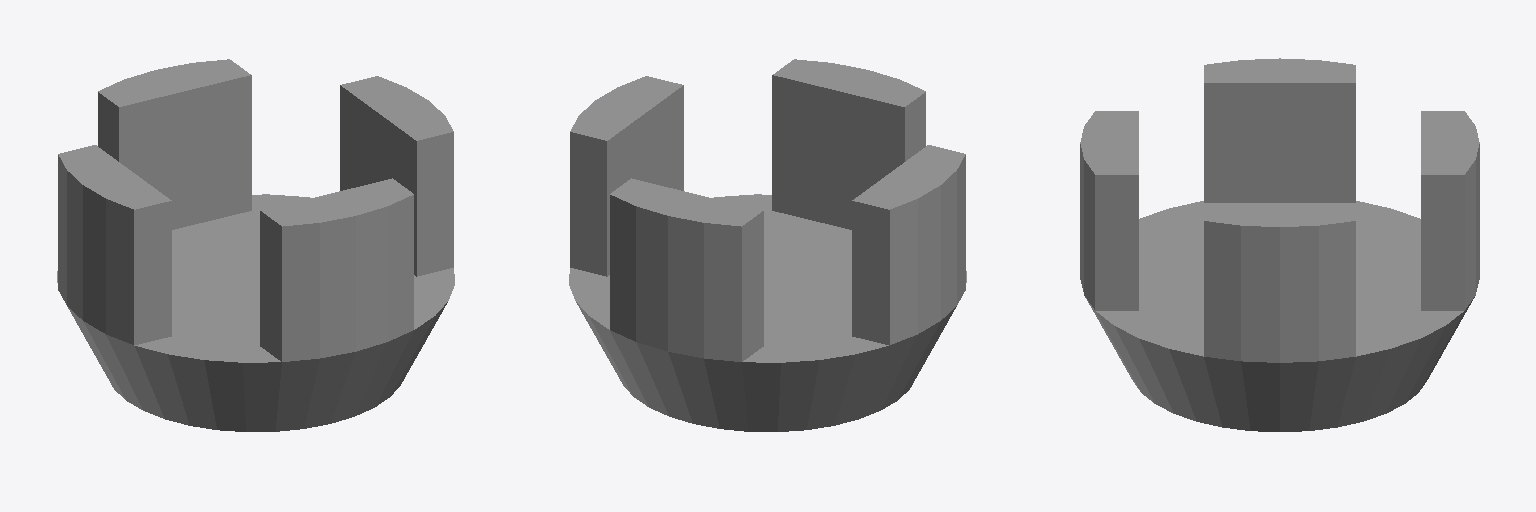
File: GripperSmooth.obj
3 renders of one model, left to right at view 1: azimuth 30°, elevation 25°; view 2: azimuth 150°, elevation 25°; view 3: azimuth 270°, elevation 25°, orthographic.
Parts seen in each view (by area): view 1: Cylinder; view 2: Cylinder; view 3: Cylinder.
Part boxes in pixels (x1,y1,x2,y2): Cylinder: (57,59,454,431); Cylinder: (569,59,966,431); Cylinder: (1080,58,1479,431).
Bounding box in the file's own units: 0.4 × 0.25 × 0.4.